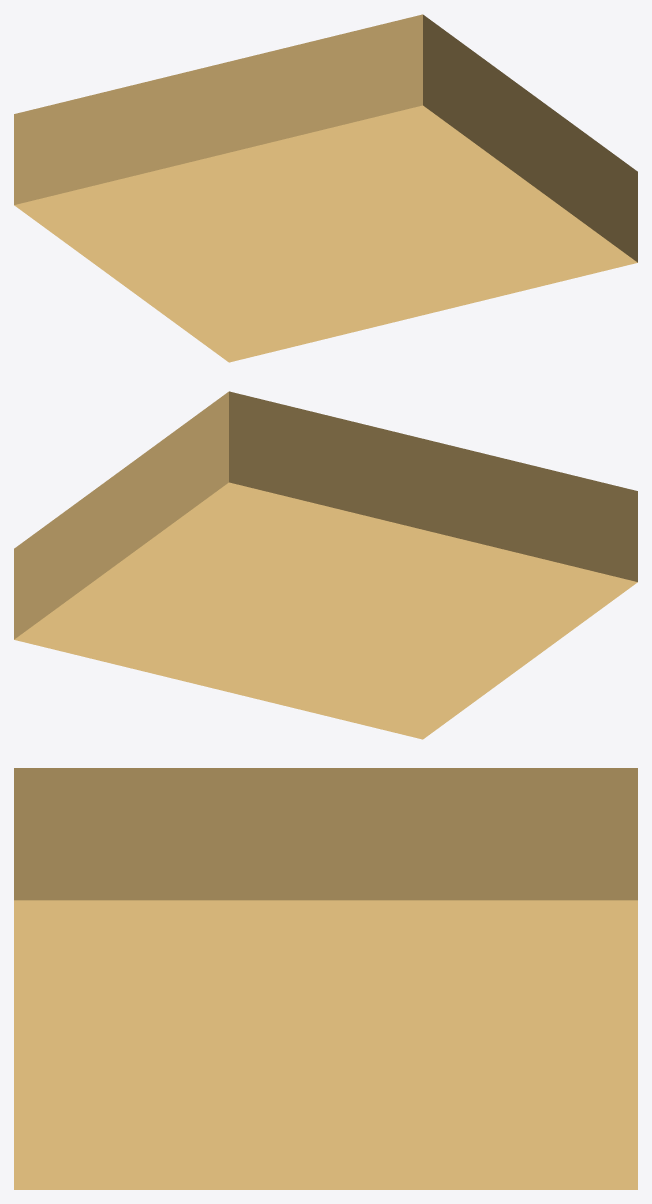
File: templates-floating-floral-cloud-011.glb
3 renders of one model, top to bottom at view 1: azimuth 30°, elevation 25°; view 2: azimuth 150°, elevation 25°; view 3: azimuth 270°, elevation 25°, orthographic. The views are drawn at different scales.
Visible parts, largest first — view 1: Floating Floral Cloud Templates; view 2: Floating Floral Cloud Templates; view 3: Floating Floral Cloud Templates.
Boxes of the visible parts, x1,y1,x2,y2 form: Floating Floral Cloud Templates: [14, 14, 637, 362]; Floating Floral Cloud Templates: [14, 391, 637, 739]; Floating Floral Cloud Templates: [14, 768, 637, 1189].
Bounding box in the file's own units: 4.7 × 1 × 4.28.
